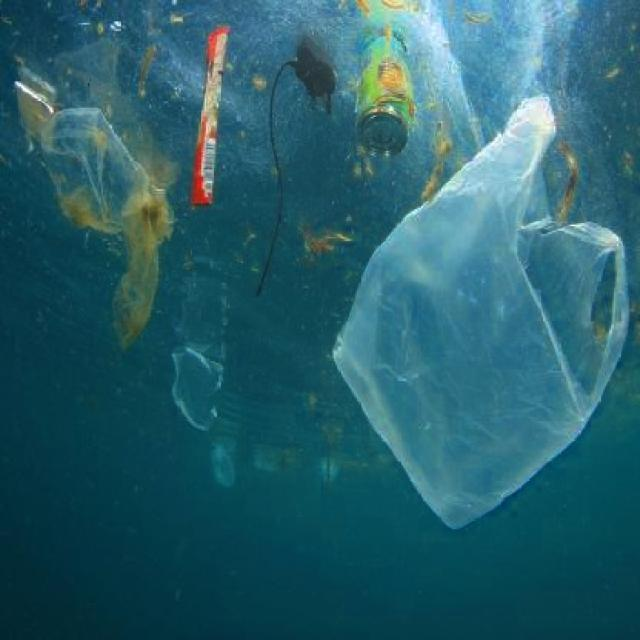can: (355, 24, 413, 162)
electronics: (253, 31, 338, 303)
pbag: (334, 91, 631, 532), (35, 105, 177, 353), (168, 342, 226, 435), (208, 441, 238, 494)
plastic: (191, 22, 232, 215)
